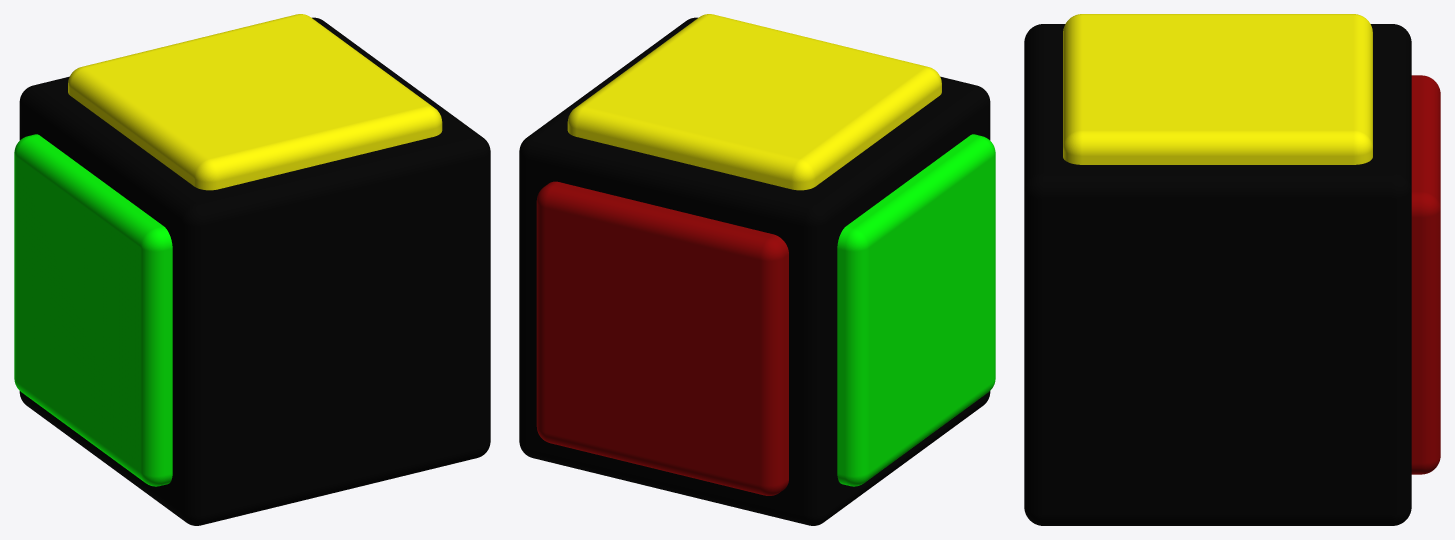
File: cubinho(1, 1, -1).obj
The picture shows the model from 3 angles, left to right: view 1: azimuth 30°, elevation 25°; view 2: azimuth 150°, elevation 25°; view 3: azimuth 270°, elevation 25°; orthographic projection. The views are drawn at different scales.
Visible parts, largest first — view 1: (1,_1,_-1); view 2: (1,_1,_-1); view 3: (1,_1,_-1).
Part boxes in pixels (left/top/right/bottom): (1,_1,_-1): left=14, top=14, right=490, bottom=525; (1,_1,_-1): left=519, top=14, right=995, bottom=525; (1,_1,_-1): left=1024, top=14, right=1440, bottom=525.
Size of the model in its own units: 2.15 by 2.15 by 2.15.
